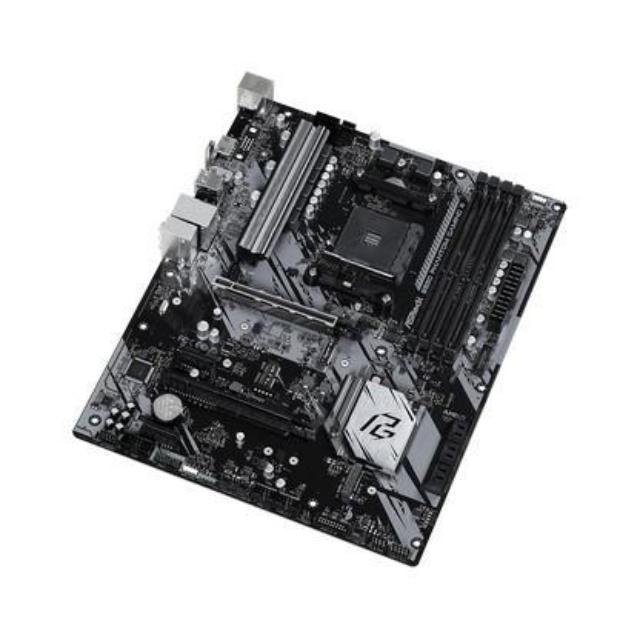Mainboard: (65, 71, 572, 574)
